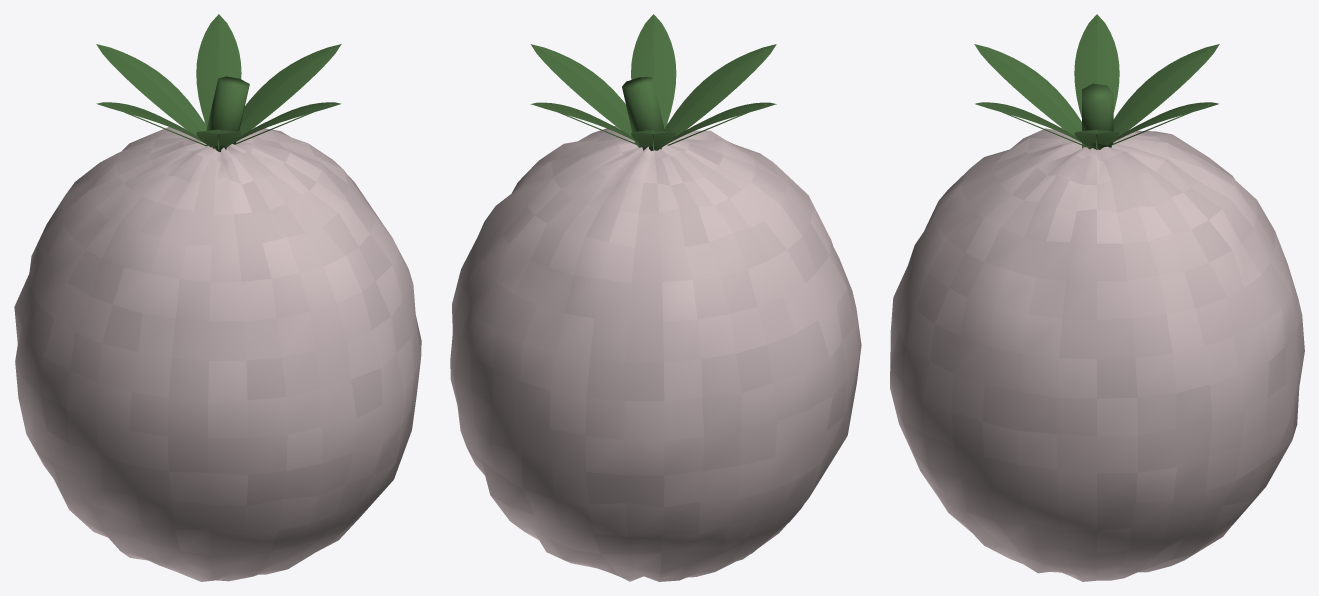
Rendered from Turnip.glb.
The picture shows the model from 3 angles, left to right: view 1: azimuth 30°, elevation 25°; view 2: azimuth 150°, elevation 25°; view 3: azimuth 270°, elevation 25°; orthographic projection.
Parts seen in each view (by area): view 1: Turnip; view 2: Turnip; view 3: Turnip.
Part boxes in pixels (bbox=[...]): Turnip: bbox=[14, 14, 421, 581]; Turnip: bbox=[450, 14, 861, 581]; Turnip: bbox=[890, 14, 1304, 581].
Size of what is drawn, in the model's own units: 0.0684 by 0.0912 by 0.0696.
